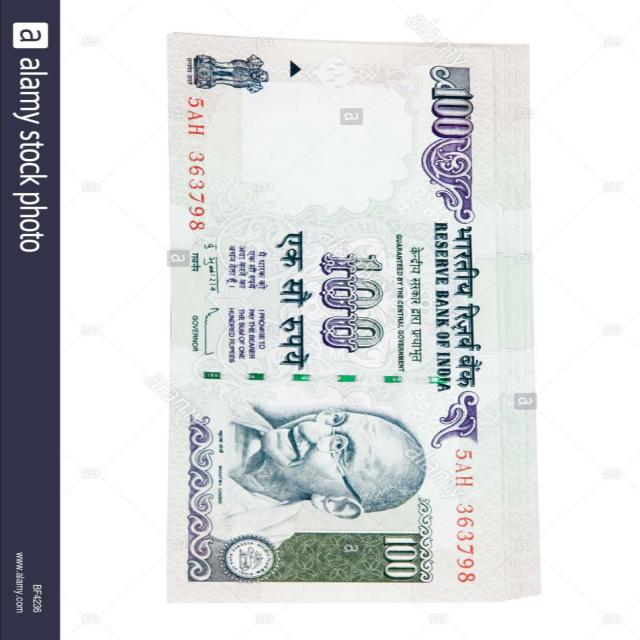100IndianRupees: (179, 50, 534, 600)
